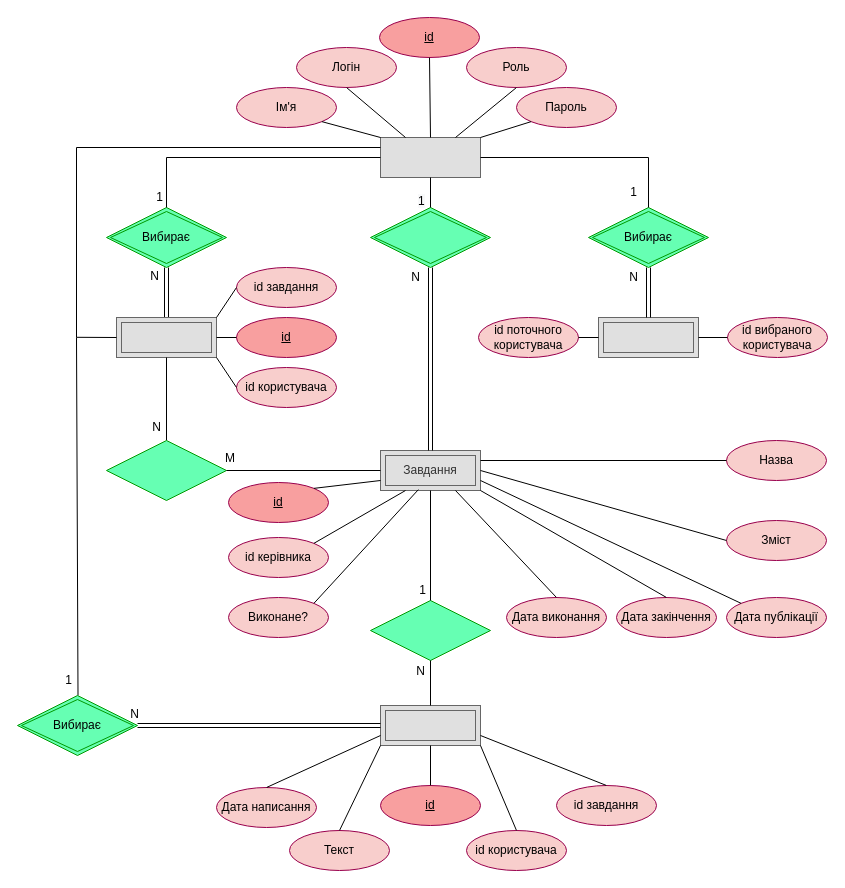
The diagram is 845 pixels wide and 888 high, and some of its shapes have lost their labels. The centre of each missing label's shape, as x and y in pixels:
Вибраний користувач: the point at 648,337
Виконавець: the point at 166,337
Виконує: the point at 166,470
Коментар: the point at 430,725
Користувач: the point at 430,157
Містить в собі: the point at 430,630
Створює: the point at 430,237
